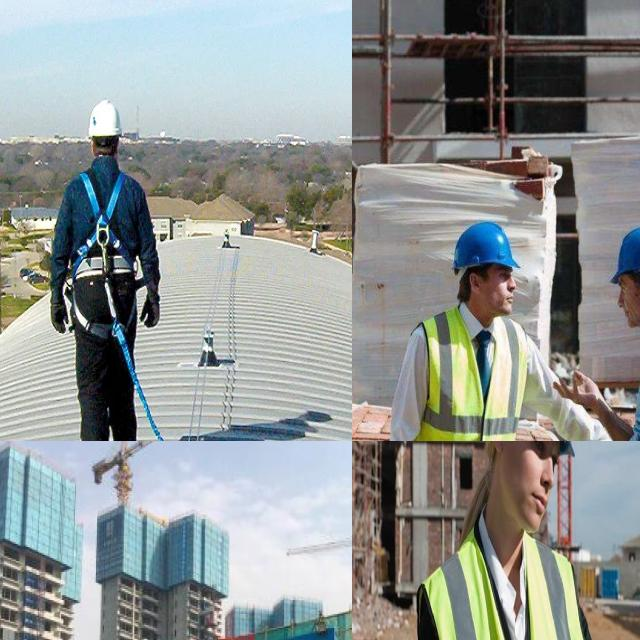Harness: (71, 168, 139, 344)
No_Ear-Protection: (488, 441, 510, 461)
No_Glasses: (523, 441, 566, 478)
face_nomask: (508, 441, 564, 536), (485, 266, 518, 321), (617, 275, 640, 334)
hand_noglove: (550, 372, 610, 424)
head_helmet: (441, 214, 525, 278), (603, 221, 640, 271)
person: (437, 441, 591, 640), (400, 218, 527, 441), (591, 223, 640, 441)
vest: (428, 532, 584, 640), (420, 303, 524, 441)
